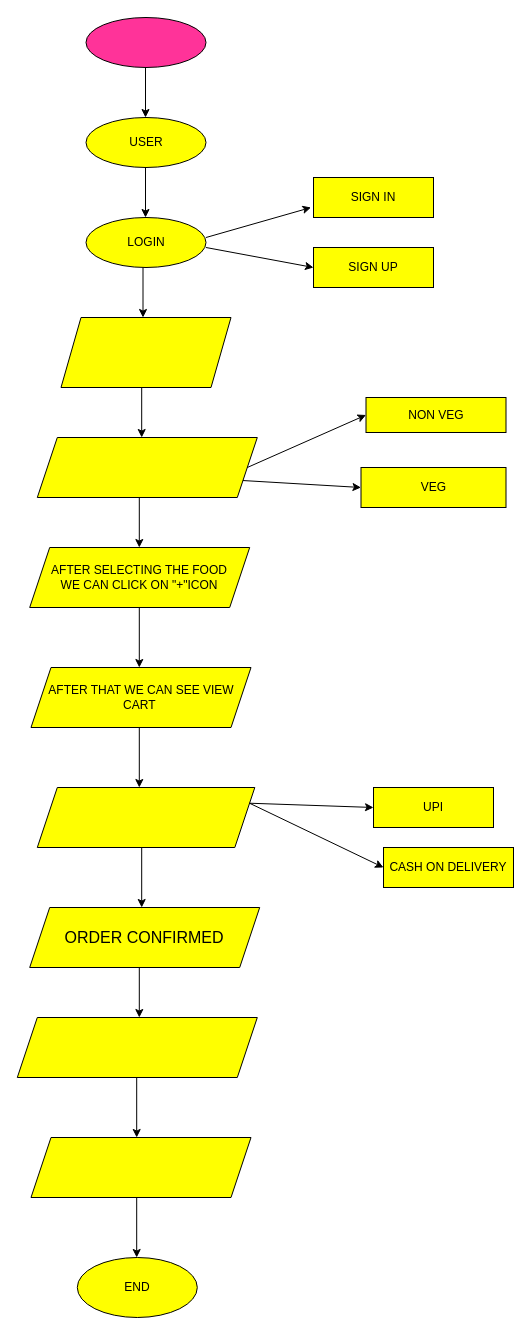
Image size: 532x1335. Some labels were removed from this diagram. Here are the shapes that lost their labels. From the top down, the box of each, then its label:
(85, 16, 206, 68): START
(60, 316, 231, 388): CHOOSE THE CURRENT LOCATION
(36, 436, 257, 498): SEARCH FOR FOOD WHAT WE NEEDED
(36, 786, 255, 848): WE CAN SELECT PAYMENT METHODS
(16, 1016, 257, 1078): TRACKING THE ORDER
(30, 1136, 251, 1198): DELIVERY BOY DELIVER THE ORDER
